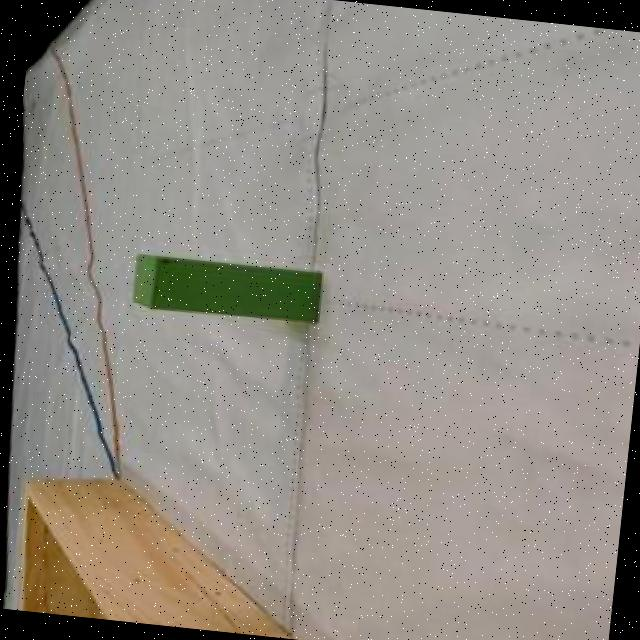greenbox: (130, 251, 323, 326)
